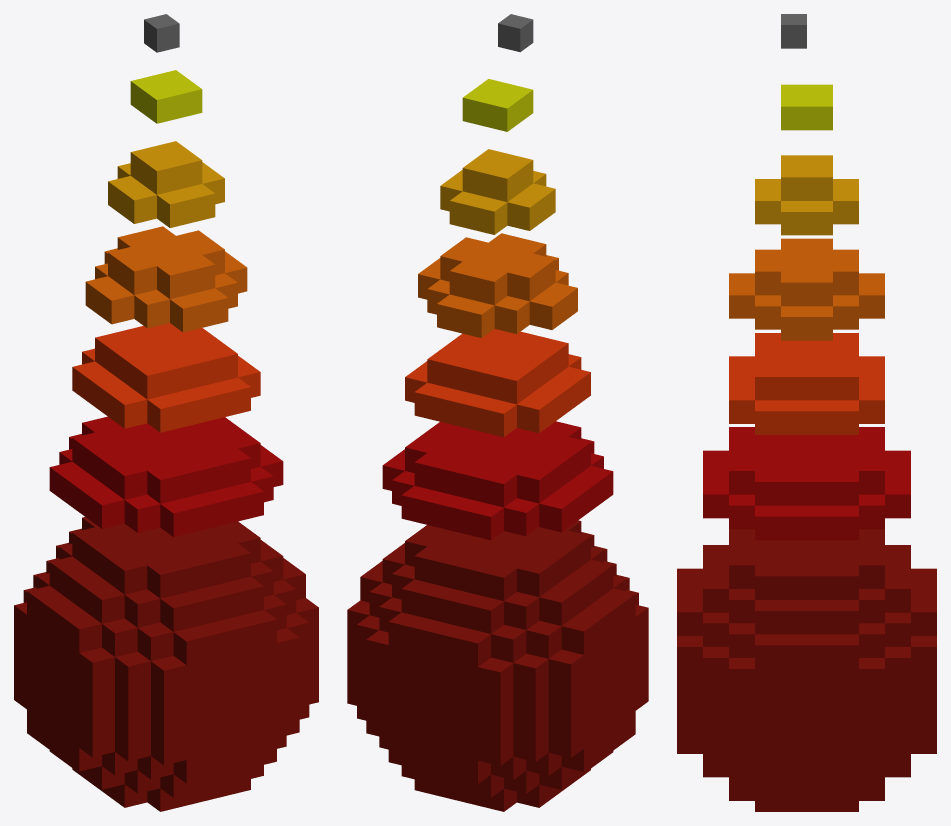
File: fire4_meteo.fbx
3 renders of one model, left to right at view 1: azimuth 30°, elevation 25°; view 2: azimuth 150°, elevation 25°; view 3: azimuth 270°, elevation 25°, orthographic.
Parts seen in each view (by area): view 1: Union; view 2: Union; view 3: Union.
Boxes of the visible parts, x1,y1,x2,y2 form: Union: [14, 14, 318, 811]; Union: [347, 14, 648, 811]; Union: [677, 14, 936, 811].
Bounding box in the file's own units: 10 × 32 × 10.
